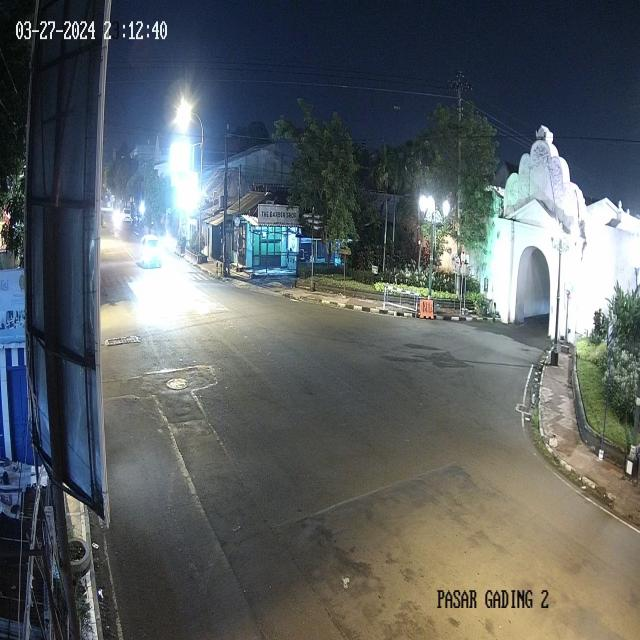car: (139, 229, 164, 273), (122, 206, 132, 224)
